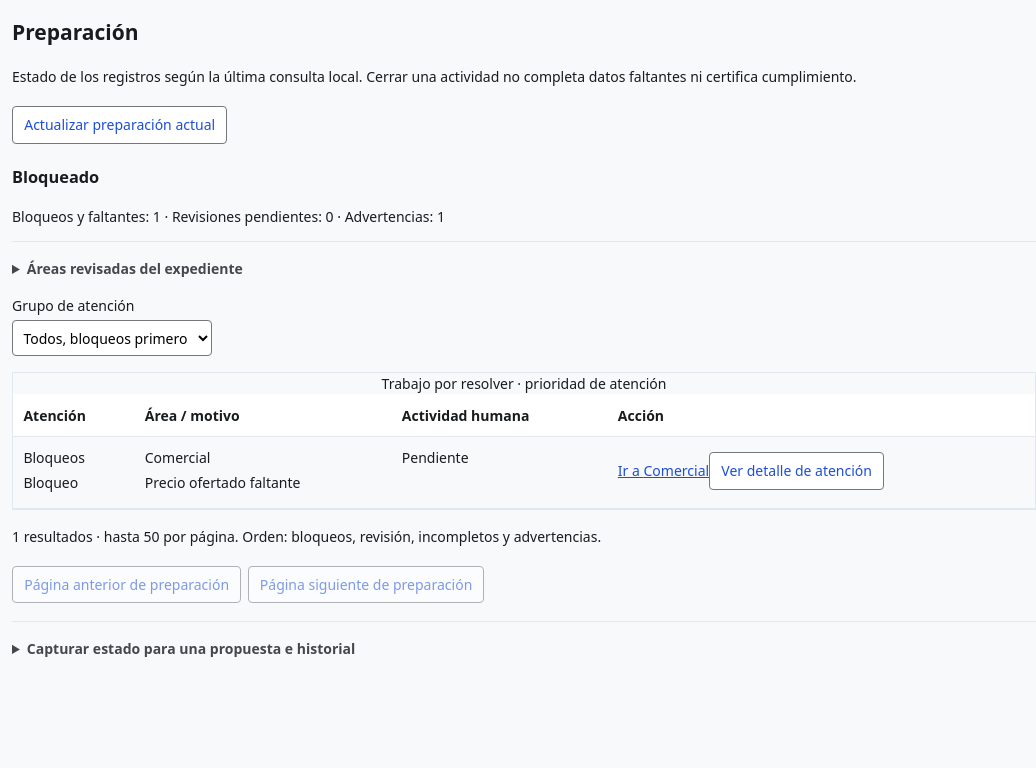
Test: UIR5-12–17/34: canonical blocker, warning separation and exact area navigation without score
expect the text "Precio ofertado faltante" is shown: met, box x1=145 y1=473 x2=300 y2=492
expect the heading "Bloqueado" is shown: met, box x1=12 y1=166 x2=99 y2=188
Click the button "Ver detalle de atención": (797, 471) x1=709 y1=452 x2=884 y2=490
(page scrolled)
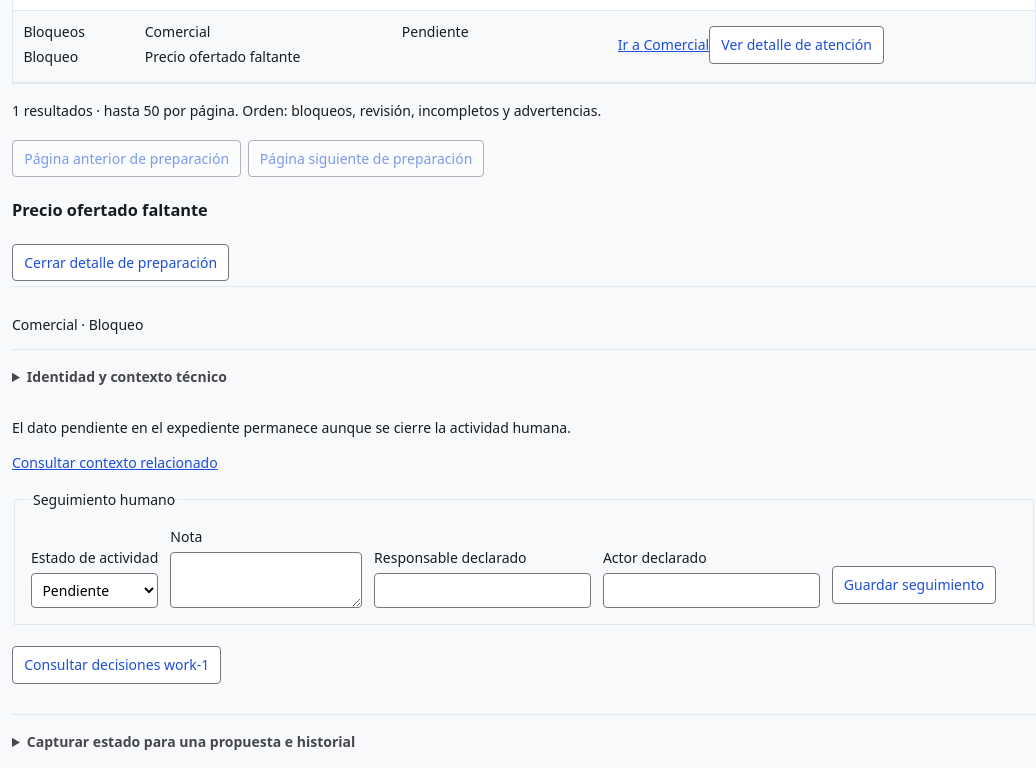
expect the element labelled "detalle de preparación" shows "El dato pendiente en el expediente permanece": met, box x1=12 y1=418 x2=571 y2=437
